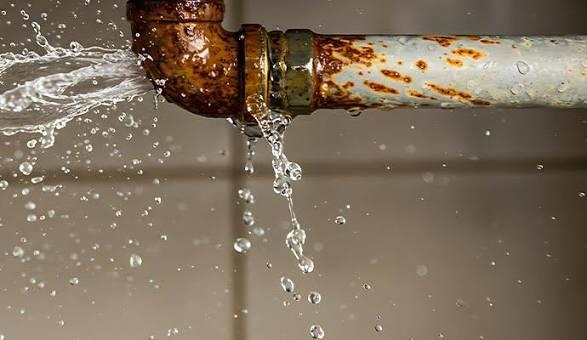pipe burst: (0, 31, 177, 148)
water drop: (243, 136, 258, 174), (233, 238, 253, 255), (279, 276, 295, 293), (309, 323, 325, 338), (19, 162, 34, 177), (239, 189, 254, 203), (308, 291, 322, 305), (345, 106, 362, 117), (129, 254, 143, 266), (242, 211, 253, 224), (334, 216, 347, 226)
